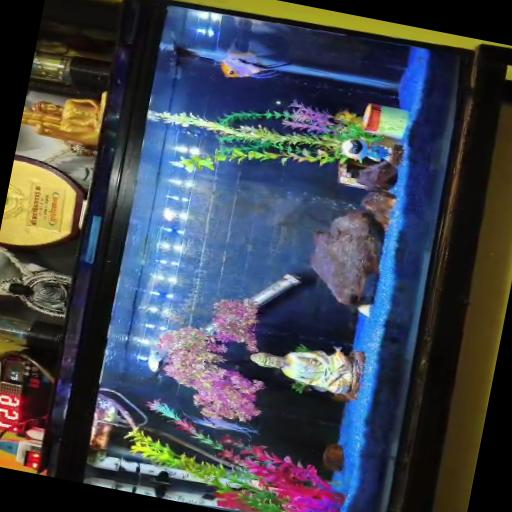Fish: (221, 44, 290, 79), (188, 417, 258, 436), (234, 17, 289, 33), (334, 347, 344, 361)
